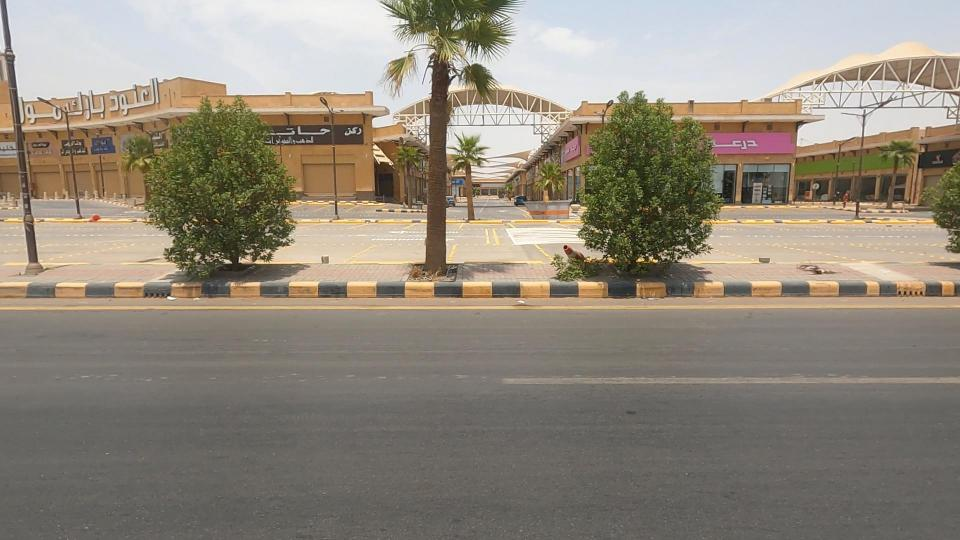SAND_ON_ROAD: (490, 282, 544, 319), (147, 280, 196, 318)
